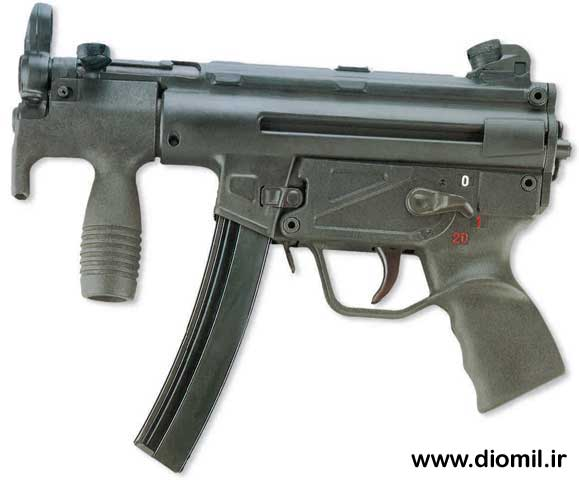rifle: (24, 17, 553, 446)
